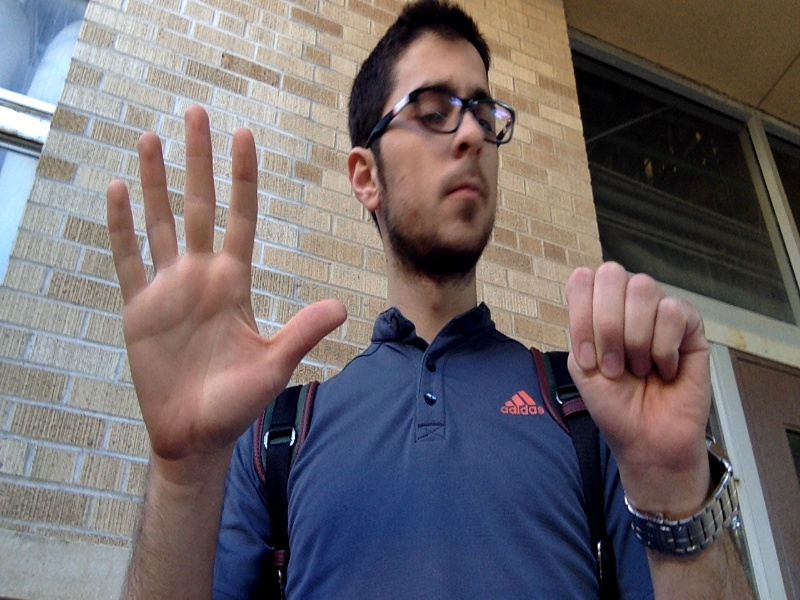0-hand: (565, 264, 709, 457)
5-hand: (108, 106, 348, 455)
